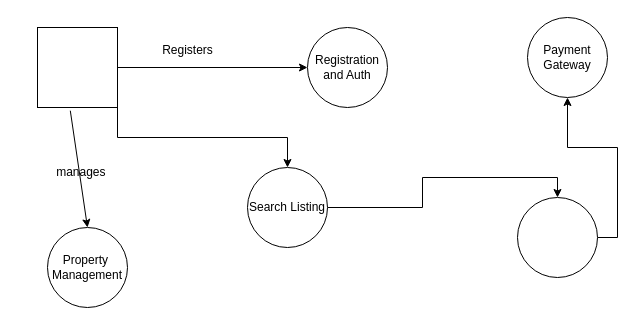
This 643x325 diagram has some shape labels left out. Each missing label, with the centre of its shape:
"Booking" goes at (557,237).
"Guest or Host" goes at (77,67).
